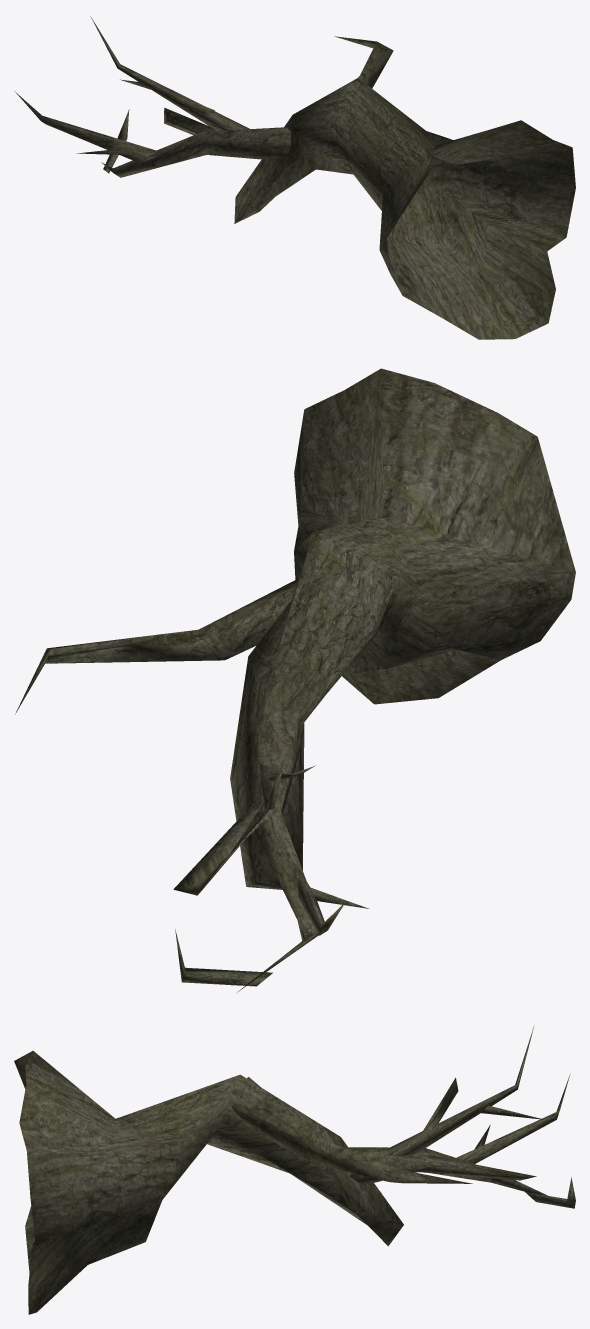
File: TI_Old_Tree_05_LOD_03.fbx
3 views of the same model, one above another, from view 1: azimuth 30°, elevation 25°; view 2: azimuth 150°, elevation 25°; view 3: azimuth 270°, elevation 25° (orthographic). The views are drawn at different scales.
Visible parts, largest first — view 1: TI_Old_Tree_05_LOD_03; view 2: TI_Old_Tree_05_LOD_03; view 3: TI_Old_Tree_05_LOD_03.
Part boxes in pixels (bbox=[...]): TI_Old_Tree_05_LOD_03: bbox=[14, 16, 575, 339]; TI_Old_Tree_05_LOD_03: bbox=[15, 368, 575, 992]; TI_Old_Tree_05_LOD_03: bbox=[14, 1027, 575, 1314].
Size of the model in its own units: 6.18 by 4.4 by 9.8.
